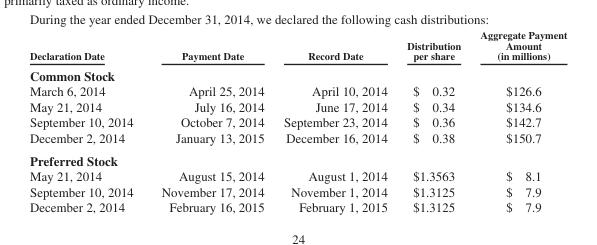table: (28, 28, 566, 214)
table column: (146, 28, 273, 214), (273, 28, 396, 214), (28, 28, 146, 214), (469, 28, 566, 214), (396, 28, 469, 214)
table column header: (28, 28, 566, 64)
table projected row header: (28, 148, 566, 168), (28, 64, 566, 82)
table row: (28, 28, 566, 64), (28, 148, 566, 168), (28, 129, 566, 148), (28, 64, 566, 82), (28, 82, 566, 98), (28, 113, 566, 129), (28, 183, 566, 199), (28, 98, 566, 113), (28, 168, 566, 183), (28, 199, 566, 214)
